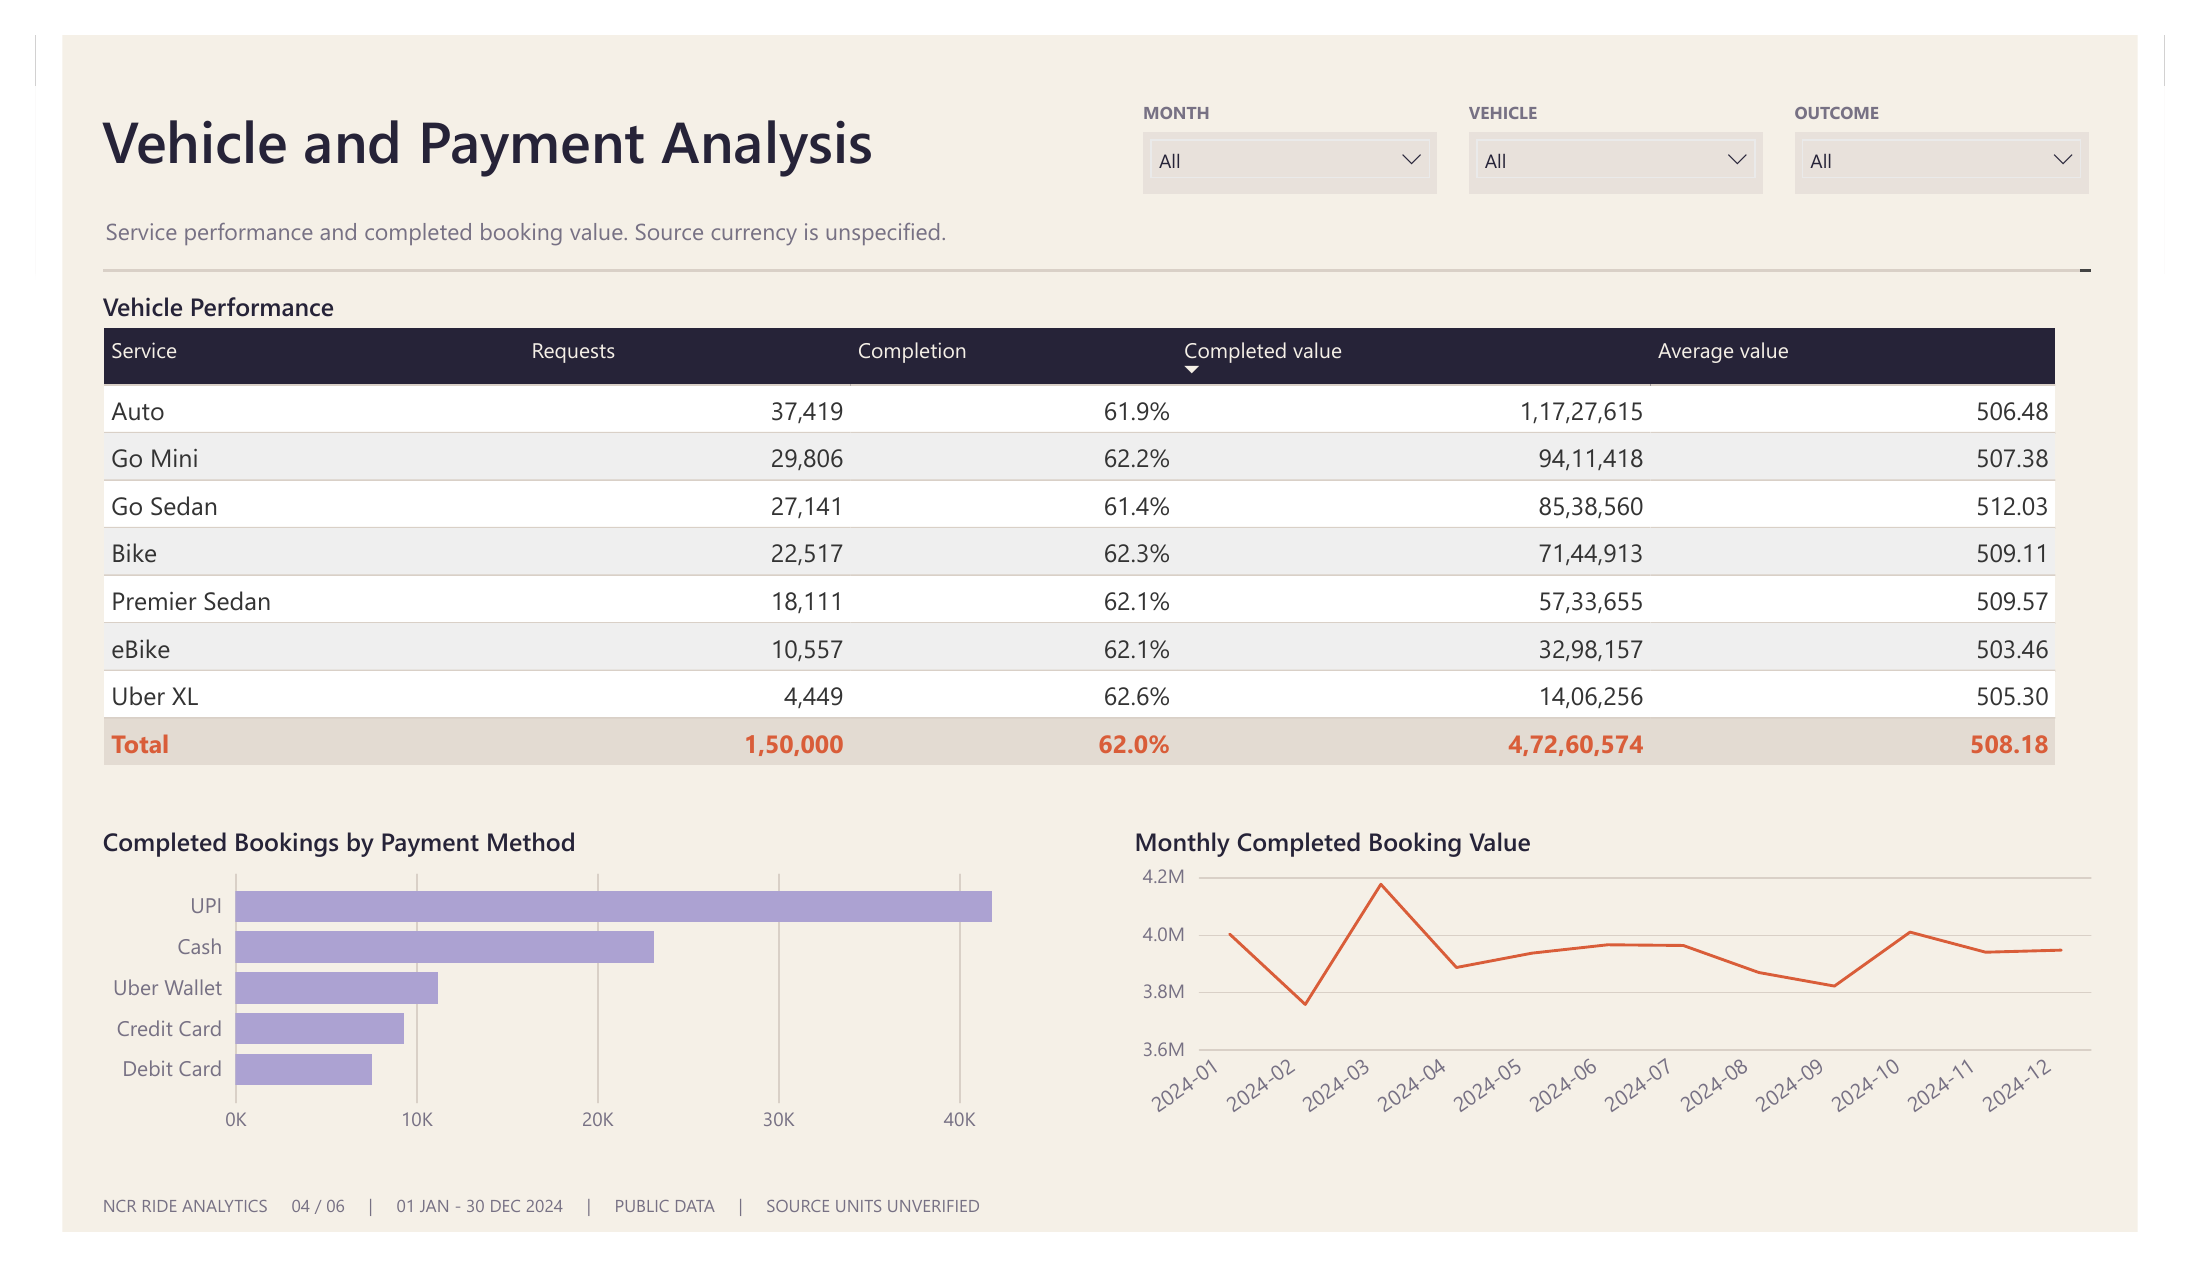

Layout of this report page (visuals, bound fields, positions):
{"tool":"powerbi","page":{"name":"04 / Value","canvas":[1440,810],"ordinal":3},"visuals":[{"type":"textbox","box":[28,26,680,62],"z":59},{"type":"textbox","box":[750,23,204,20],"z":60},{"type":"slicer","fields":{"Values":["Calendar.month"]},"box":[750,47,204,43],"z":61},{"type":"textbox","box":[976,23,204,20],"z":62},{"type":"slicer","fields":{"Values":["Vehicle.vehicle_type"]},"box":[976,47,204,43],"z":63},{"type":"textbox","box":[1202,23,204,20],"z":64},{"type":"slicer","fields":{"Values":["Status.status"]},"box":[1202,47,204,43],"z":65},{"type":"textbox","box":[30,105,1376,32],"z":66},{"type":"textbox","box":[28,142,1380,2],"z":67},{"type":"textbox","box":[28,782,1380,24],"z":68},{"type":"tableEx","title":"Vehicle Performance","fields":{"Values":["Vehicle.vehicle_type","Bookings.Bookings","Bookings.Completion Rate","Bookings.Completed Booking Value","Bookings.Avg Completed Value"]},"box":[28,156,1380,333],"z":69},{"type":"barChart","title":"Completed Bookings by Payment Method","fields":{"Category":["Payment.payment_method"],"Y":["Bookings.Completed"]},"box":[28,527,669.1,220],"z":70},{"type":"lineChart","title":"Monthly Completed Booking Value","fields":{"Category":["Calendar.month"],"Y":["Bookings.Completed Booking Value"]},"box":[743.6,527,664.4,220],"z":71}]}

Visuals, with their boxes in screenshot pixels (x1, y1, x2, y2), scaled from the page's 1440x810 canvas onto the 2200x1268 screenshot:
textbox: (43,41,1082,138)
textbox: (1146,36,1458,67)
slicer - Calendar.month: (1146,74,1458,141)
textbox: (1491,36,1803,67)
slicer - Vehicle.vehicle_type: (1491,74,1803,141)
textbox: (1836,36,2148,67)
slicer - Status.status: (1836,74,2148,141)
textbox: (46,164,2148,214)
textbox: (43,222,2151,225)
textbox: (43,1224,2151,1262)
"Vehicle Performance" tableEx: (43,244,2151,765)
"Completed Bookings by Payment Method" barChart: (43,825,1065,1169)
"Monthly Completed Booking Value" lineChart: (1136,825,2151,1169)
